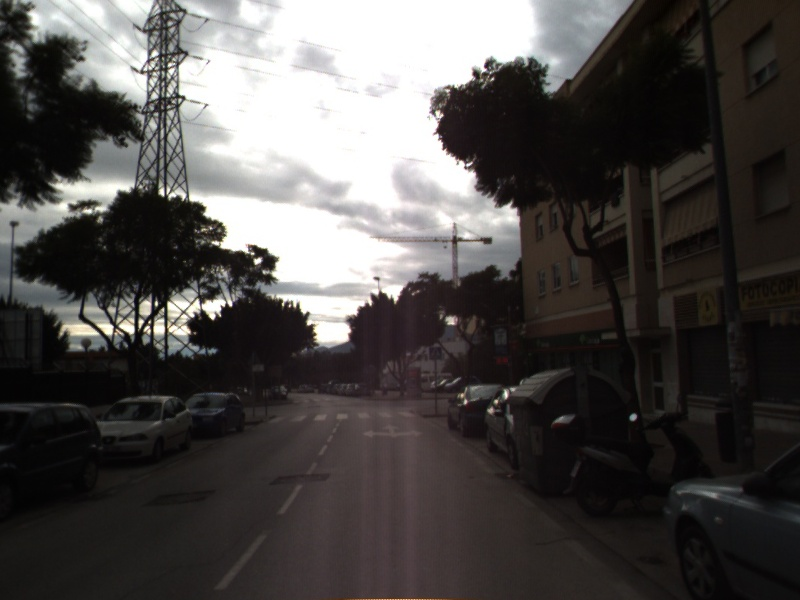STRAIGHT_LEFT_RIGHT: (361, 421, 426, 440)
